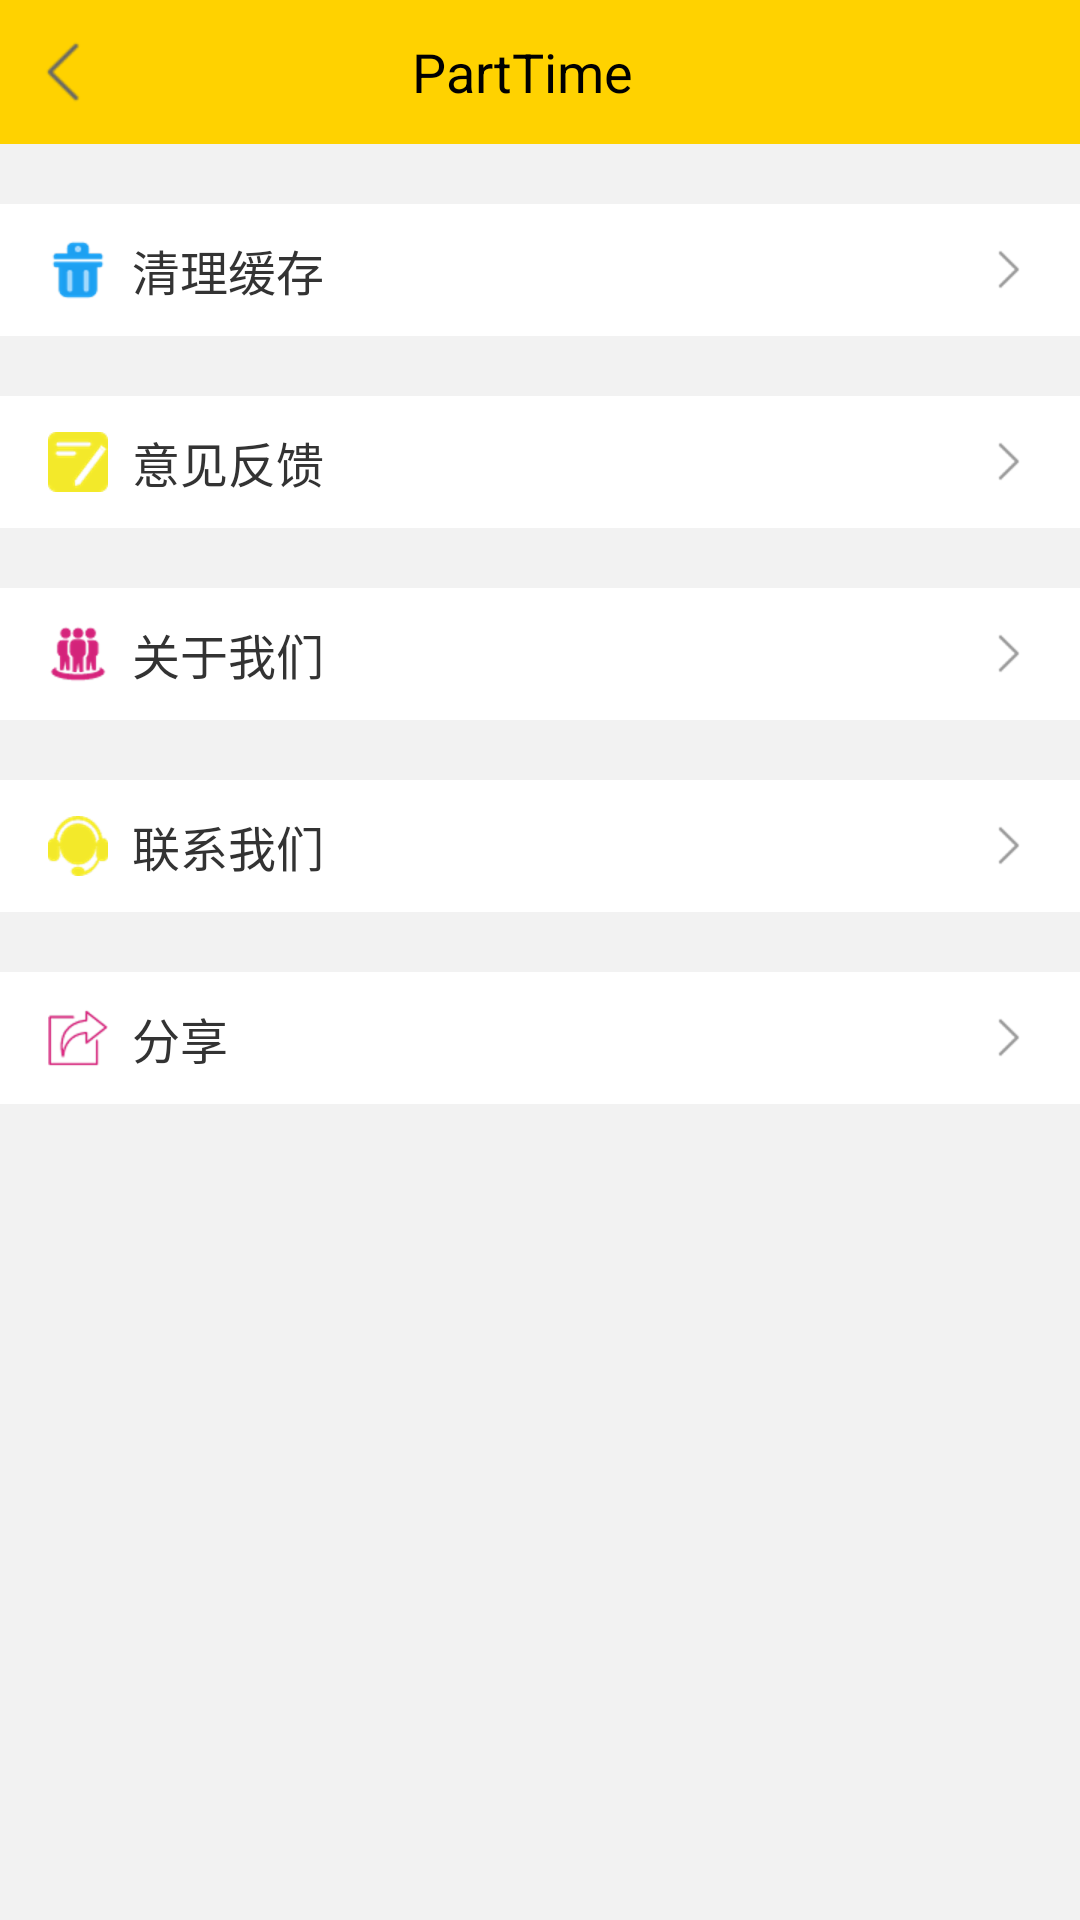

Screen size 1080w x 1920h. Icon name, then its center in pixels as (x=x, y=y):
back: (x=63, y=72)
more: (x=1009, y=269), (x=1009, y=461), (x=1009, y=653), (x=1009, y=845), (x=1009, y=1037)
person setting about us: (x=78, y=654)
person setting clear cache: (x=78, y=270)
person setting connect us: (x=78, y=846)
person setting shared: (x=78, y=1038)
person setting suggest: (x=78, y=462)
